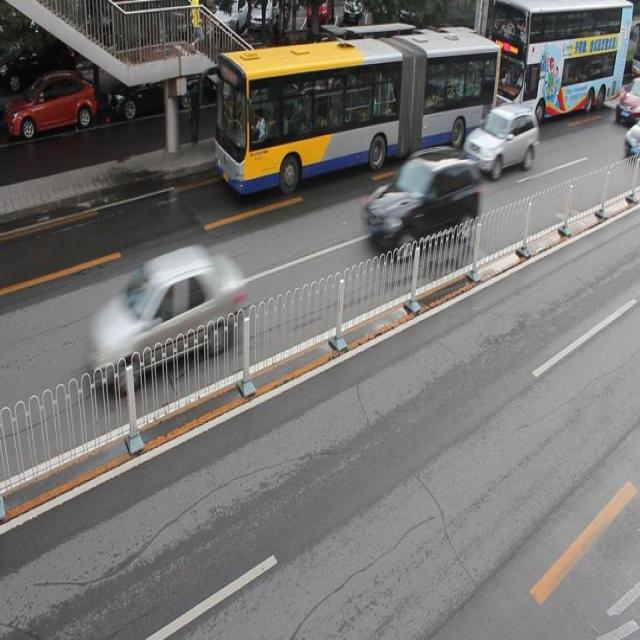car: (88, 245, 243, 386), (368, 144, 478, 255), (1, 68, 97, 137), (104, 58, 193, 120), (464, 102, 538, 175), (206, 37, 276, 104), (297, 40, 363, 96), (615, 78, 640, 124), (621, 115, 640, 165)
van: (216, 34, 498, 188), (488, 1, 630, 126)
